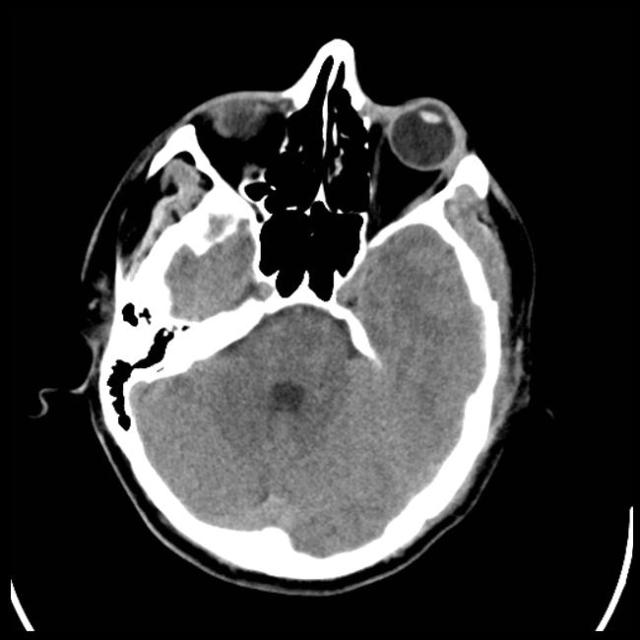lesion: (69, 38, 539, 590)
